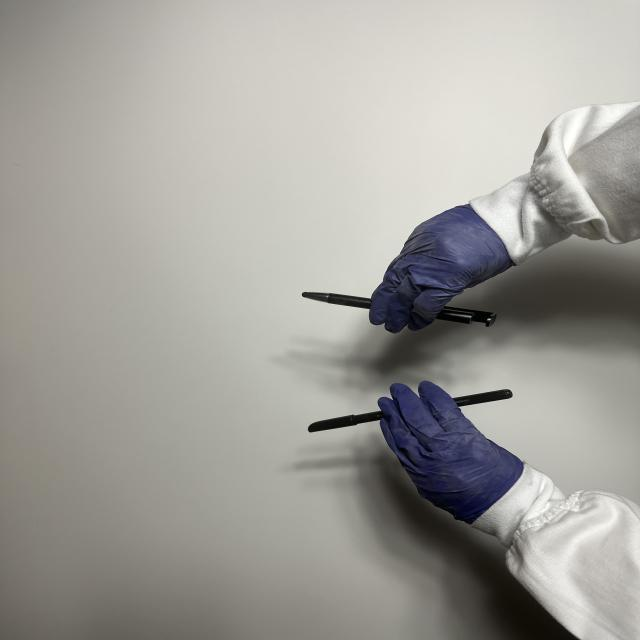gloves_contaminated: (379, 381, 523, 524), (369, 205, 513, 332)
